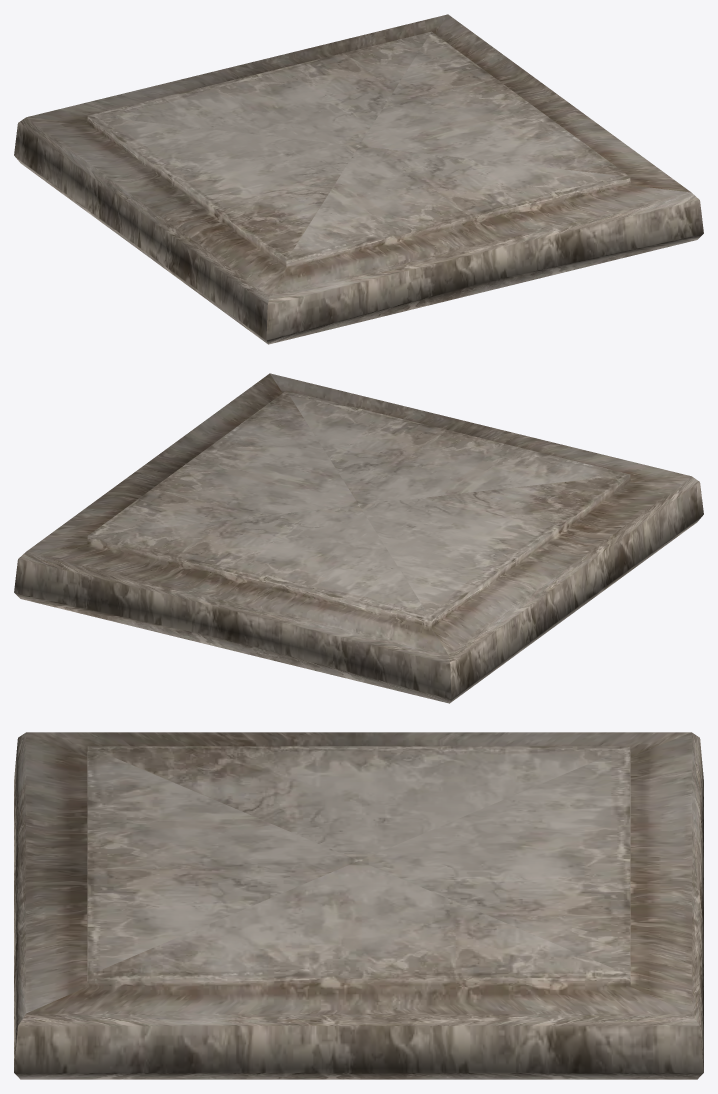
3 renders of one model, top to bottom at view 1: azimuth 30°, elevation 25°; view 2: azimuth 150°, elevation 25°; view 3: azimuth 270°, elevation 25°, orthographic. The views are drawn at different scales.
Visible parts, largest first — view 1: SM_CeilingTile_LOD0; view 2: SM_CeilingTile_LOD0; view 3: SM_CeilingTile_LOD0.
Boxes of the visible parts, <box> form: SM_CeilingTile_LOD0: <box>14,14,703,344</box>; SM_CeilingTile_LOD0: <box>14,373,703,703</box>; SM_CeilingTile_LOD0: <box>14,732,703,1079</box>.
Size of the model in its own units: 1.15 by 0.1394 by 1.15.
1 material, 1 textured.
